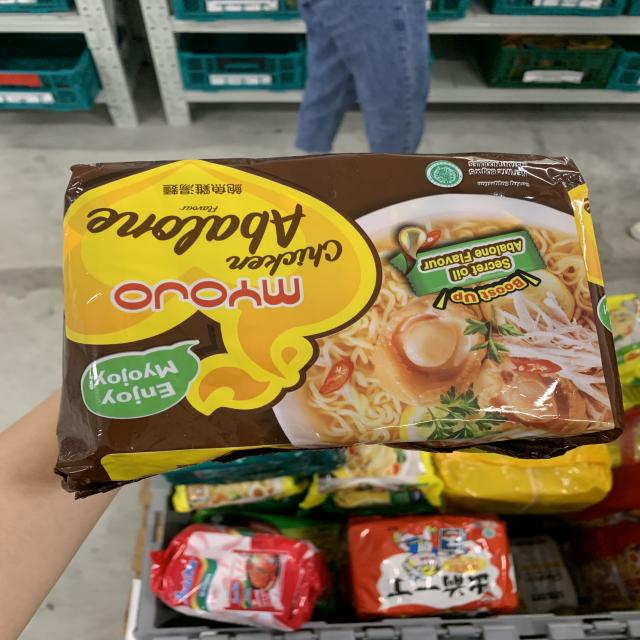object_name: (61, 166, 613, 457)
